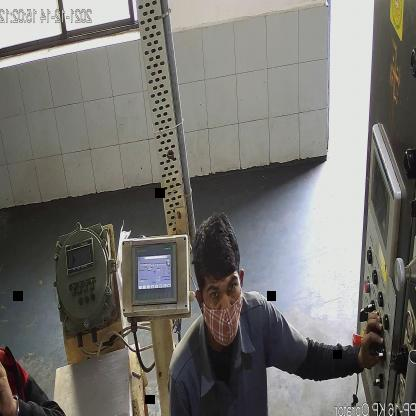no_goggles: (205, 280, 242, 308)
